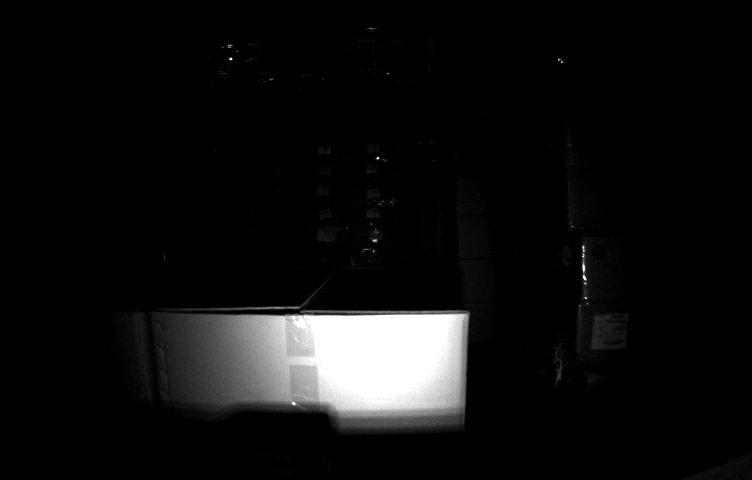True Barcode: (594, 314, 628, 349)
